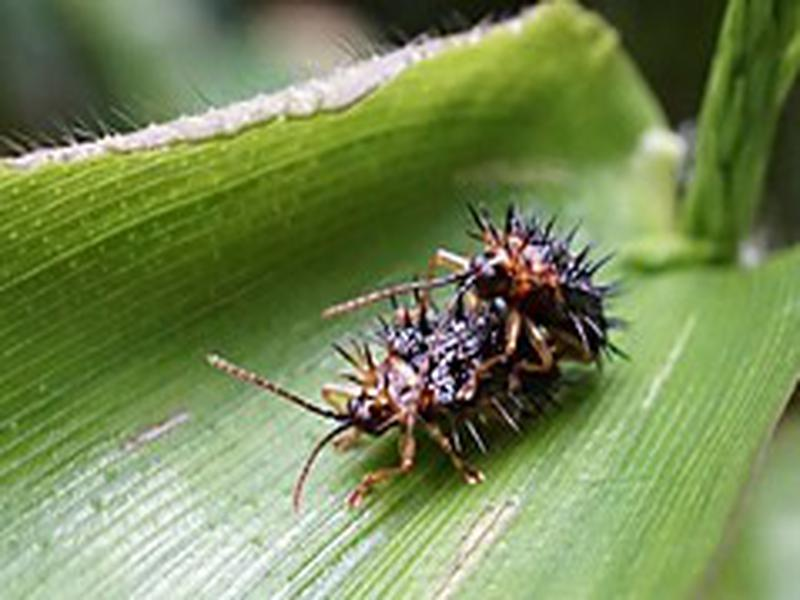Spiny_beetle: (279, 212, 635, 509)
